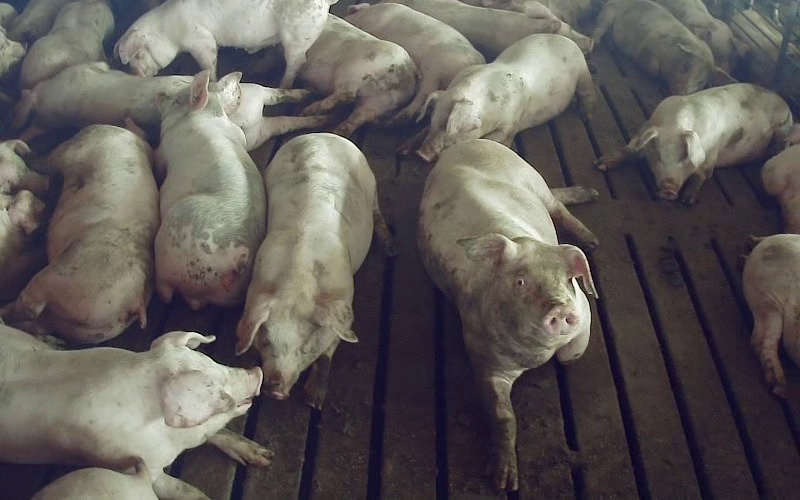pig: (418, 139, 596, 490), (237, 133, 390, 408), (6, 119, 158, 343), (155, 71, 265, 309), (400, 34, 593, 161), (595, 83, 791, 203), (114, 0, 334, 87), (346, 3, 484, 119), (300, 14, 415, 136), (592, 0, 714, 94), (20, 0, 113, 88)
